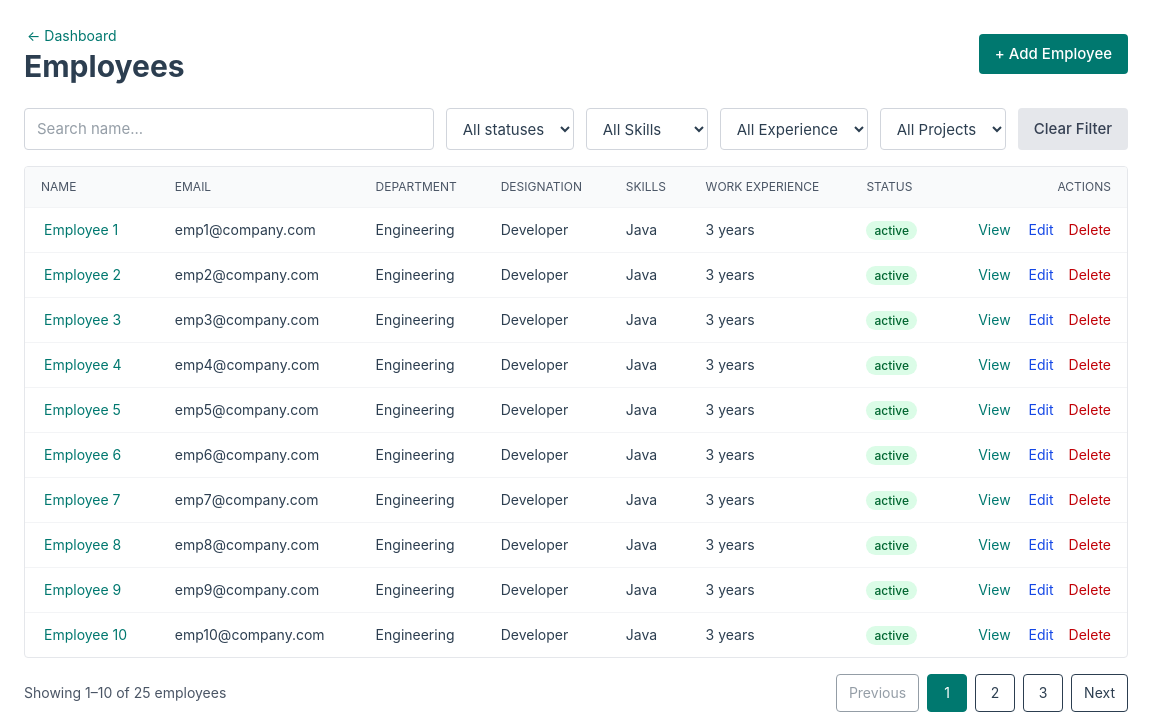
Test case: EmployeeListView › paginates 10 per page and navigates between pages
Click the button named "Page 3" at [1043, 693], box [1023, 674, 1063, 712]
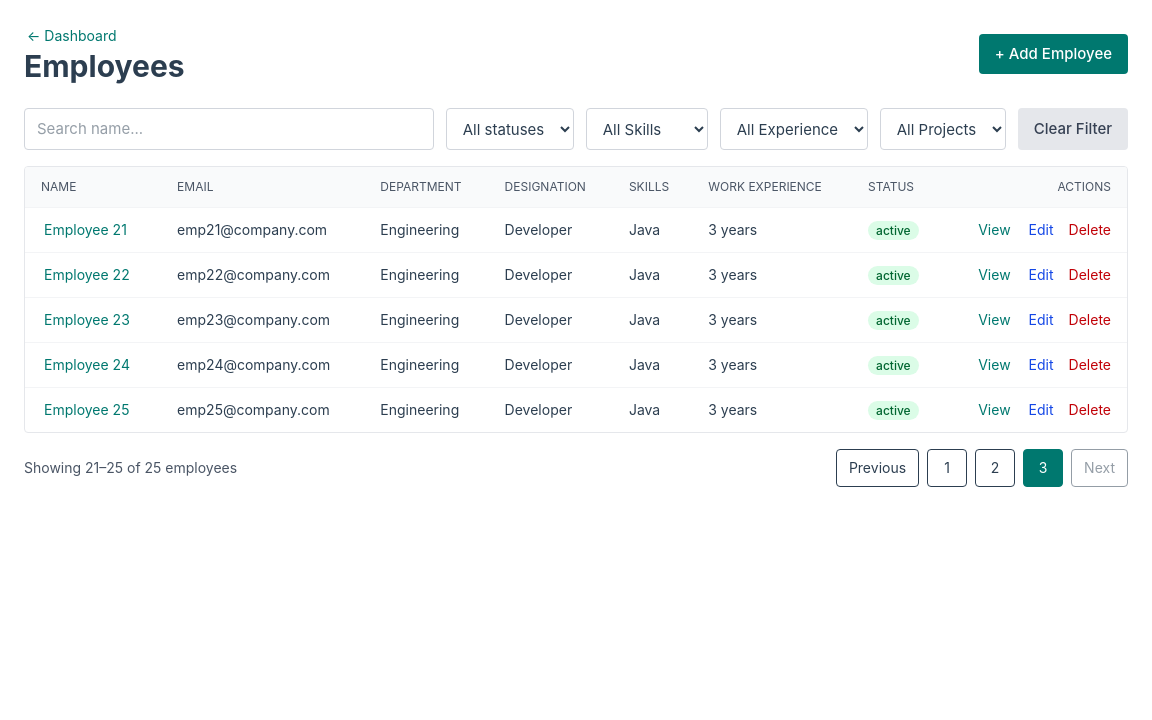
Expected: the text "Showing 21–25 of 25 employees" is shown, [24, 458, 237, 478]
Expected: the button "Next" is disabled, [1071, 449, 1128, 487]
Click the button "Previous" at [878, 468], box [836, 449, 919, 487]
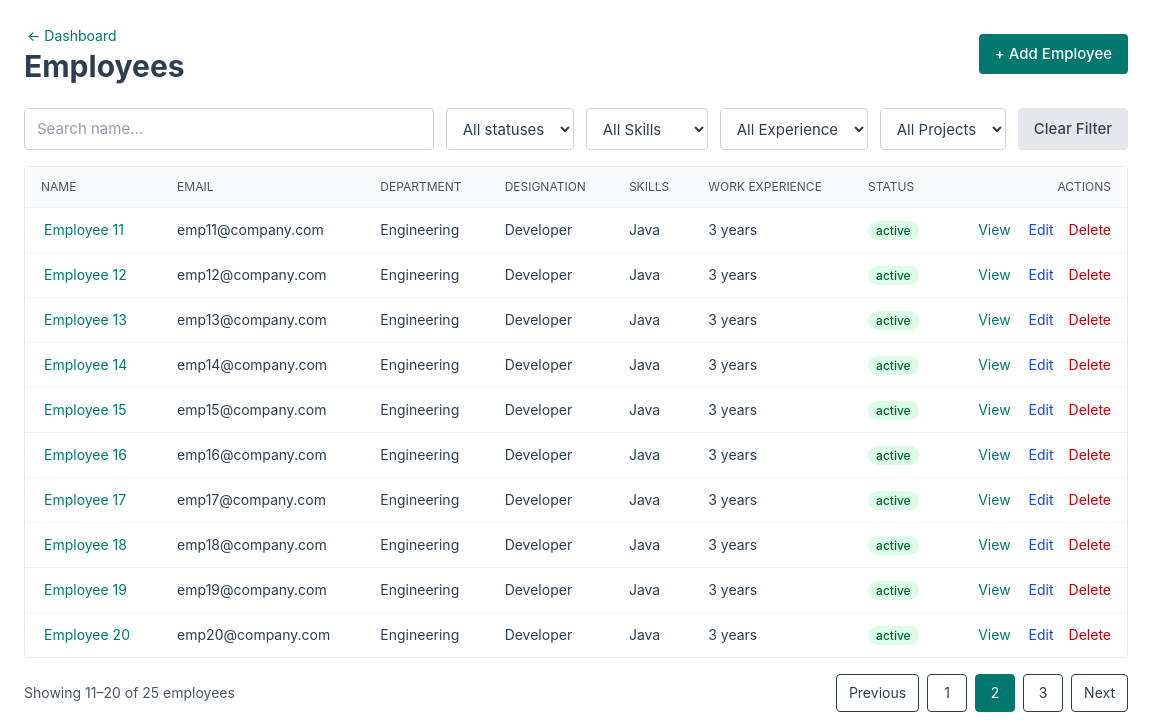
Expected: the text "Showing 11–20 of 25 employees" is shown, [24, 683, 235, 703]
